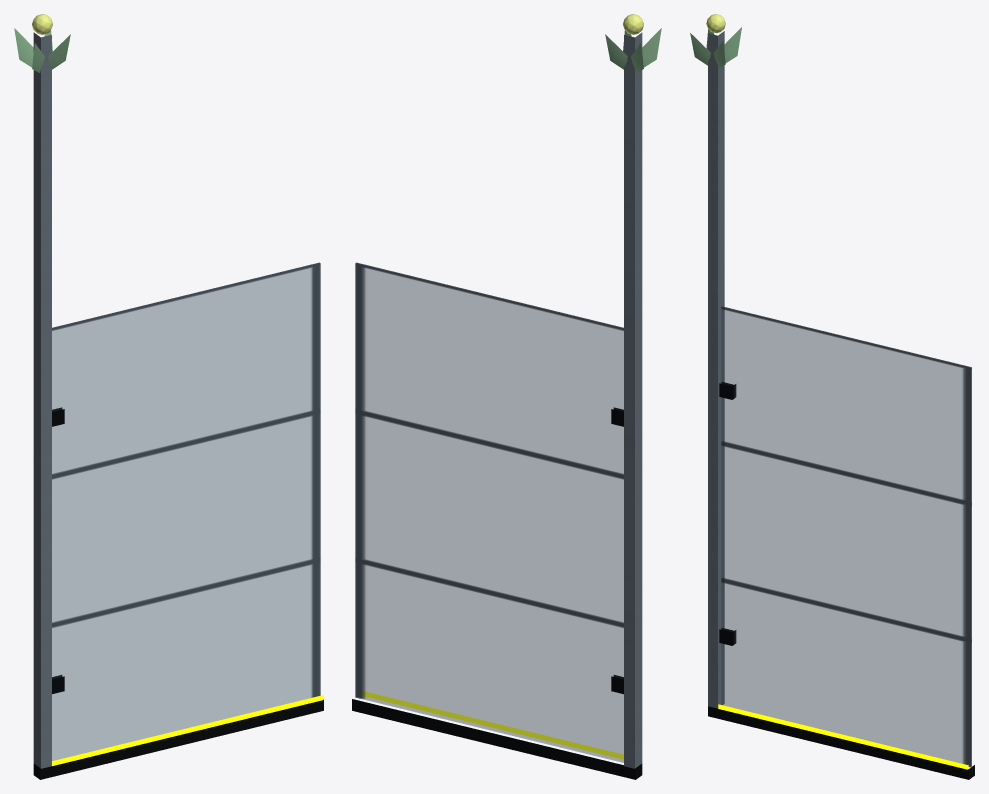
3 renders of one model, left to right at view 1: azimuth 30°, elevation 25°; view 2: azimuth 150°, elevation 25°; view 3: azimuth 330°, elevation 25°, orthographic. The views are drawn at different scales.
Parts seen in each view (by area): view 1: Glass_Court_Pane, Post_Steel, Floor_Channel, Court_Line_LED, Leaf_Capital; view 2: Glass_Court_Pane, Post_Steel, Floor_Channel, Court_Line_LED, Leaf_Capital; view 3: Glass_Court_Pane, Post_Steel, Floor_Channel, Court_Line_LED, Leaf_Capital, Pane_Clamps.
Part boxes in pixels (<box>): Glass_Court_Pane: <box>52,262,320,760</box>; Post_Steel: <box>33,32,51,768</box>; Floor_Channel: <box>33,699,323,779</box>; Court_Line_LED: <box>52,695,323,765</box>; Leaf_Capital: <box>14,28,70,72</box>; Glass_Court_Pane: <box>355,262,623,762</box>; Post_Steel: <box>624,32,642,768</box>; Floor_Channel: <box>352,699,642,779</box>; Court_Line_LED: <box>362,691,623,759</box>; Leaf_Capital: <box>605,28,661,72</box>; Glass_Court_Pane: <box>721,306,971,767</box>; Post_Steel: <box>708,31,724,708</box>; Floor_Channel: <box>708,706,974,779</box>; Court_Line_LED: <box>718,704,968,769</box>; Leaf_Capital: <box>690,27,741,67</box>; Pane_Clamps: <box>719,382,736,645</box>.
Size of the model in its own units: 2.09 by 5.13 by 0.2534.
6 materials, 3 textured.
